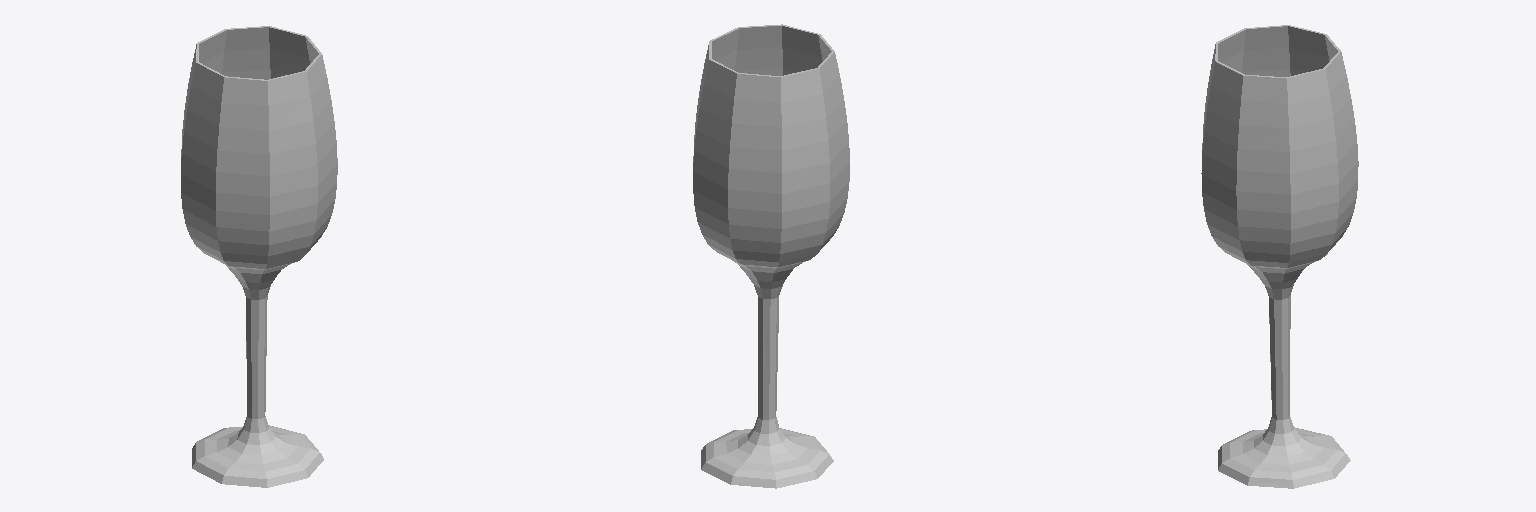
File: filled_wineglasslowpoly.obj
3 views of the same model, side by side, from view 1: azimuth 30°, elevation 25°; view 2: azimuth 150°, elevation 25°; view 3: azimuth 270°, elevation 25° (orthographic).
Parts seen in each view (by area): view 1: Curve.001_Mesh.005; view 2: Curve.001_Mesh.005; view 3: Curve.001_Mesh.005.
Part boxes in pixels (x1,y1,x2,y2): Curve.001_Mesh.005: (181,26,337,487); Curve.001_Mesh.005: (693,24,849,488); Curve.001_Mesh.005: (1201,25,1358,488).
Size of the model in its own units: 1.73 by 4.92 by 1.71.